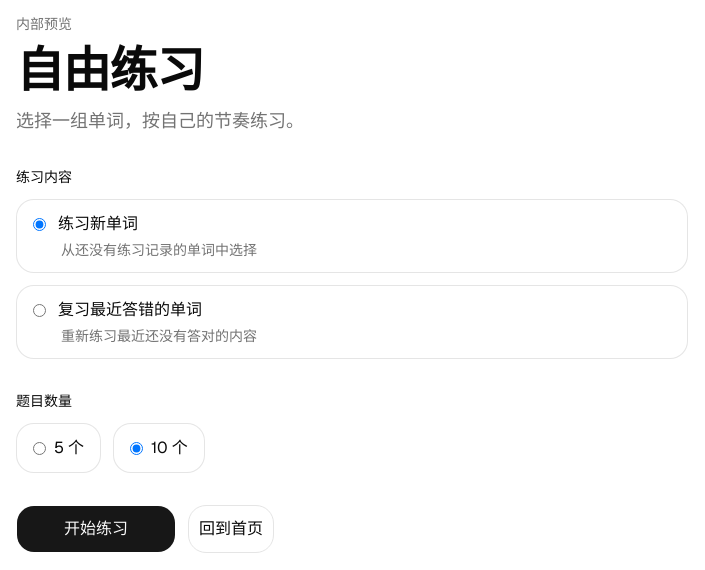
Test: Free Practice hydration and start lock › D. resume NOT_FOUND clears storage, returns to select, and can start
expect the heading "自由练习" is shown: met, box [16,39,203,101]
Step 1. Click the button "开始练习" → (96, 529), box [16,505,176,553]
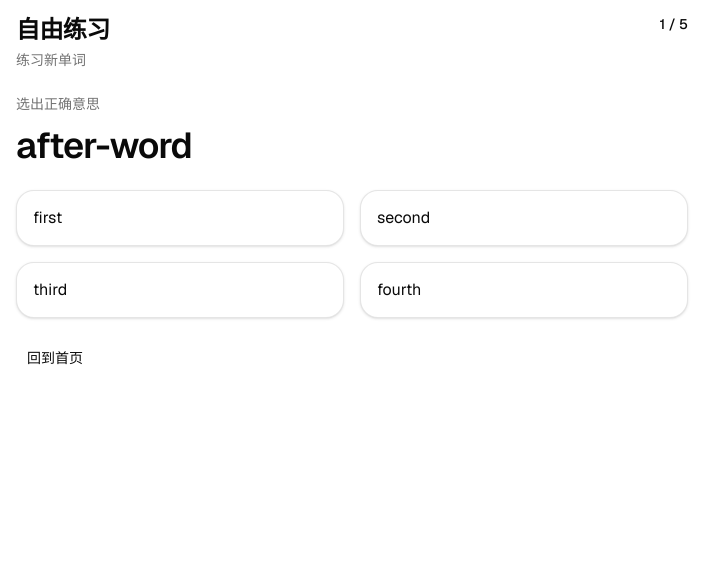
expect the text "after-word" is shown: met, box [16,122,192,169]
